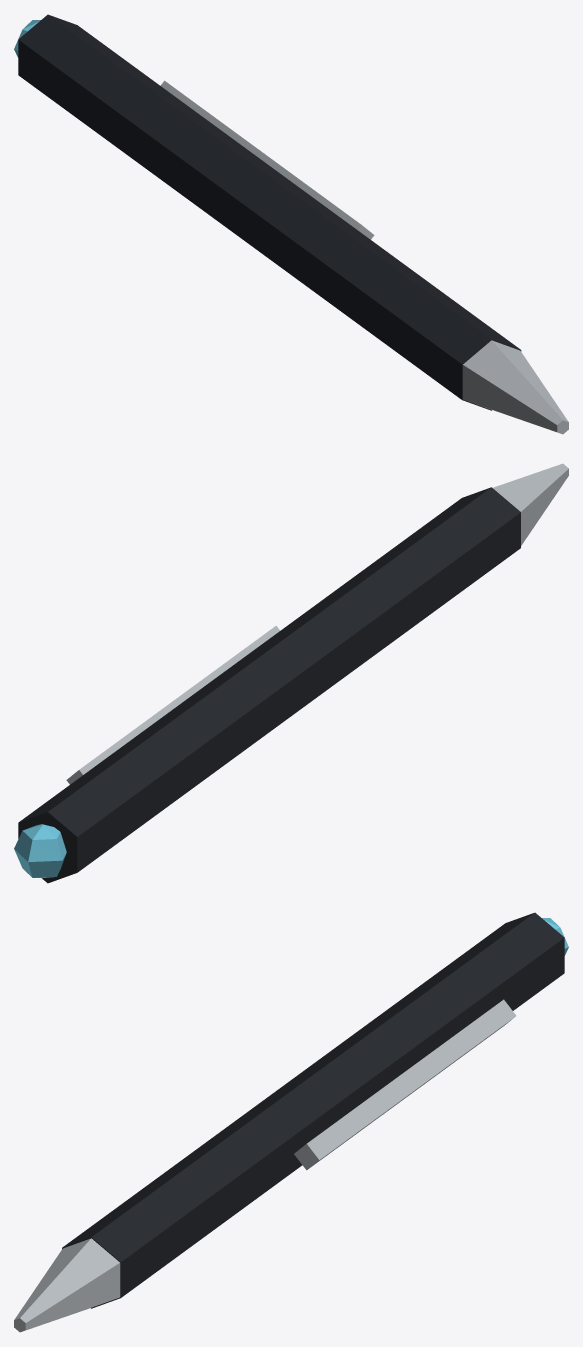
Rendered from stylus-pen.lod.glb.
3 views of the same model, one above another, from view 1: azimuth 30°, elevation 25°; view 2: azimuth 150°, elevation 25°; view 3: azimuth 330°, elevation 25° (orthographic).
Parts seen in each view (by area): view 1: m; view 2: m; view 3: m.
Part boxes in pixels (box(x1,y1,x2,y2)): m: box(14, 14, 568, 434); m: box(14, 463, 568, 883); m: box(14, 912, 568, 1332).
Size of the model in its own units: 0.00914 by 0.00734 by 0.0995.
